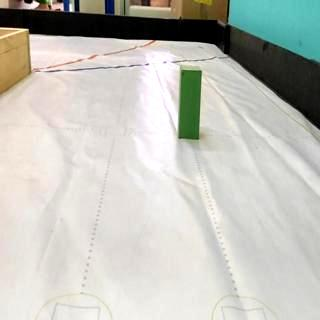greenbox: (178, 64, 202, 139)
